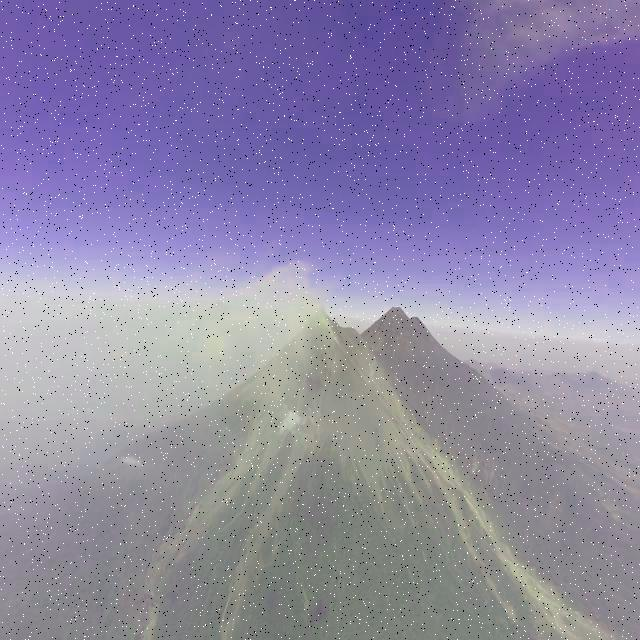Plume: (218, 260, 326, 372)
Summit: (306, 306, 334, 324)
